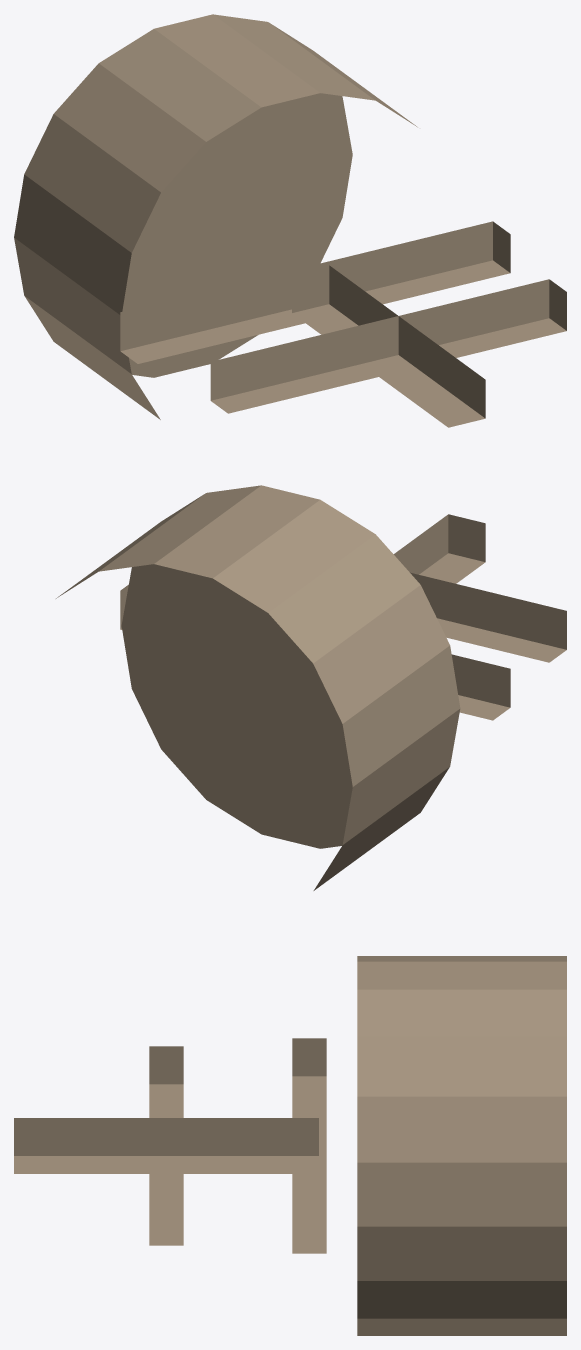
Rendered from well.glb.
The picture shows the model from 3 angles, top to bottom: view 1: azimuth 30°, elevation 25°; view 2: azimuth 150°, elevation 25°; view 3: azimuth 270°, elevation 25°; orthographic projection. The views are drawn at different scales.
Parts seen in each view (by area): view 1: world; view 2: world; view 3: world.
Part boxes in pixels (<box>): world: <box>14,14,566,427</box>; world: <box>56,485,566,890</box>; world: <box>14,956,566,1335</box>.
Size of the model in its own units: 2.2 by 1.97 by 2.9.
